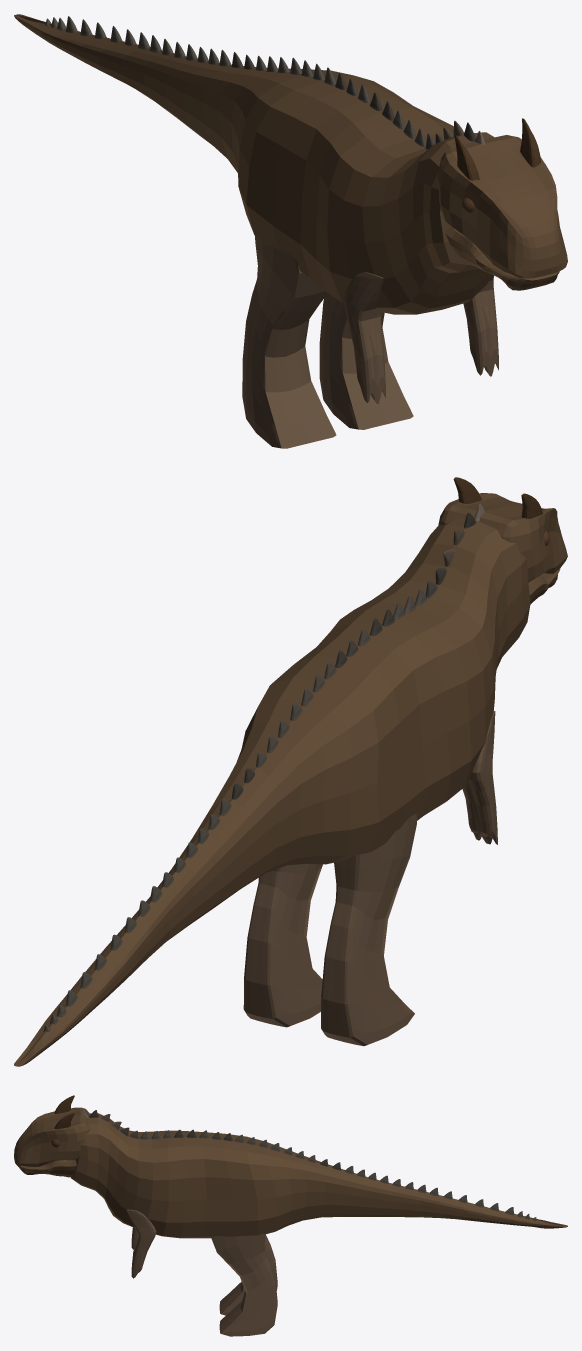
Rendered from Carnotauro.fbx.
3 views of the same model, one above another, from view 1: azimuth 30°, elevation 25°; view 2: azimuth 150°, elevation 25°; view 3: azimuth 270°, elevation 25° (orthographic). The views are drawn at different scales.
Visible parts, largest first — view 1: Cuerpo, Cubo.001, Cabeza Superior, Cubo, Cubo.003, Cubo.002, Cabeza Inferior, Cuerno, Cuerno.001; view 2: Cuerpo, Cubo.001, Cubo, Cabeza Superior, Cubo.003; view 3: Cuerpo, Cubo, Cabeza Superior, Cubo.002, Cubo.001, Cabeza Inferior.
Boxes of the visible parts, x1,y1,x2,y2 form: Cuerpo: (14,14,494,314); Cubo.001: (242,235,336,448); Cabeza Superior: (437,135,567,278); Cubo: (319,293,413,429); Cubo.003: (343,272,385,403); Cubo.002: (463,274,498,376); Cabeza Inferior: (445,226,559,290); Cuerno: (520,118,540,167); Cuerno.001: (454,134,479,180); Cuerpo: (14,519,530,1066); Cubo.001: (321,814,416,1046); Cubo: (243,863,322,1027); Cabeza Superior: (438,493,567,582); Cubo.003: (462,711,497,844); Cuerpo: (70,1113,567,1238); Cubo: (211,1233,277,1336); Cabeza Superior: (14,1107,90,1166); Cubo.002: (126,1209,156,1278); Cubo.001: (219,1234,277,1315); Cabeza Inferior: (17,1159,76,1177).
Size of the model in its own units: 82.62 by 230 by 533.
